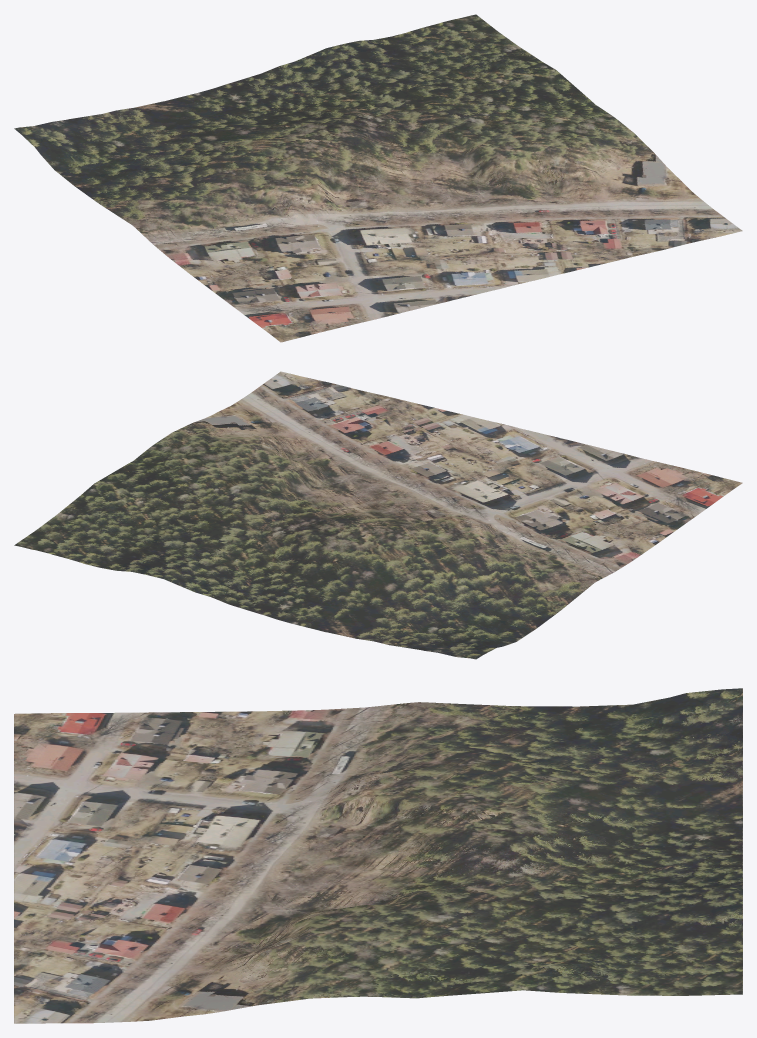
The model's file is CM_Terrain_24489230_6822046.fbx.
3 views of the same model, one above another, from view 1: azimuth 30°, elevation 25°; view 2: azimuth 150°, elevation 25°; view 3: azimuth 270°, elevation 25° (orthographic). The views are drawn at different scales.
Parts seen in each view (by area): view 1: CM_Terrain_24489230_6822046_LOD0; view 2: CM_Terrain_24489230_6822046_LOD0; view 3: CM_Terrain_24489230_6822046_LOD0.
Part boxes in pixels (box(x1,y1,x2,y2)): CM_Terrain_24489230_6822046_LOD0: box(14, 14, 742, 342); CM_Terrain_24489230_6822046_LOD0: box(14, 371, 742, 659); CM_Terrain_24489230_6822046_LOD0: box(14, 688, 742, 1023).
Size of what is drawn, in the model's own units: 205 by 12.17 by 205.
